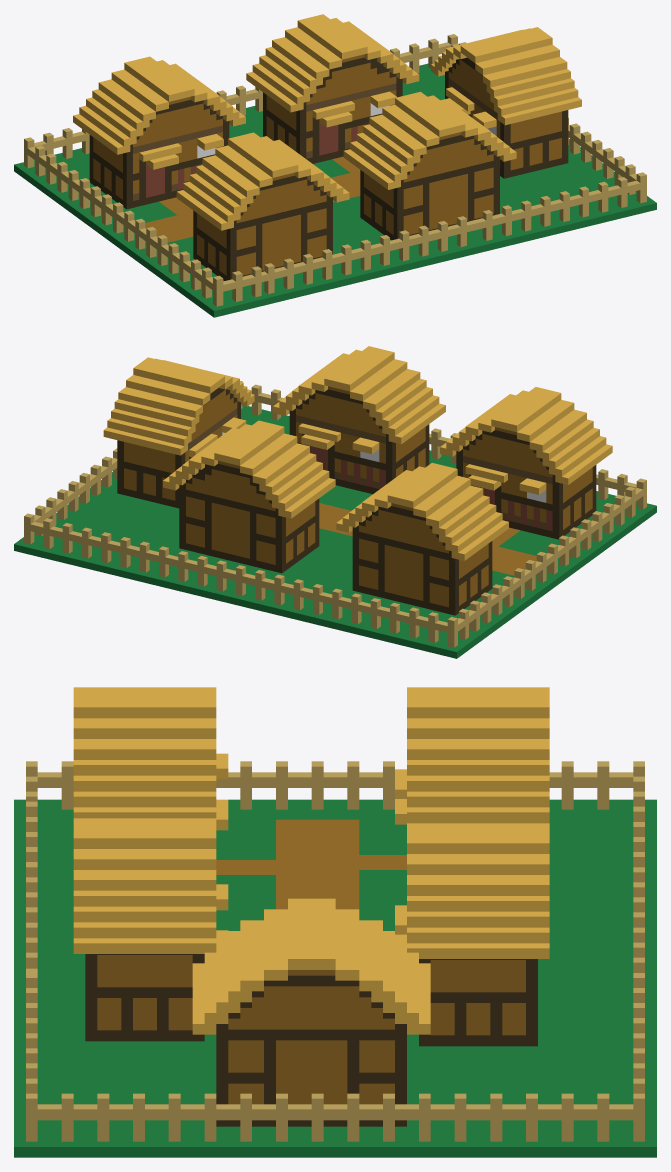
File: village.glb
The picture shows the model from 3 angles, top to bottom: view 1: azimuth 30°, elevation 25°; view 2: azimuth 150°, elevation 25°; view 3: azimuth 270°, elevation 25°; orthographic projection. The views are drawn at different scales.
Visible parts, largest first — view 1: Node; view 2: Node; view 3: Node.
Part boxes in pixels (x1,y1,x2,y2): Node: [14, 14, 656, 317]; Node: [14, 346, 656, 658]; Node: [14, 687, 656, 1157].
Size of the model in its own units: 6.9 by 1.7 by 5.4.
1 material, 1 textured.
